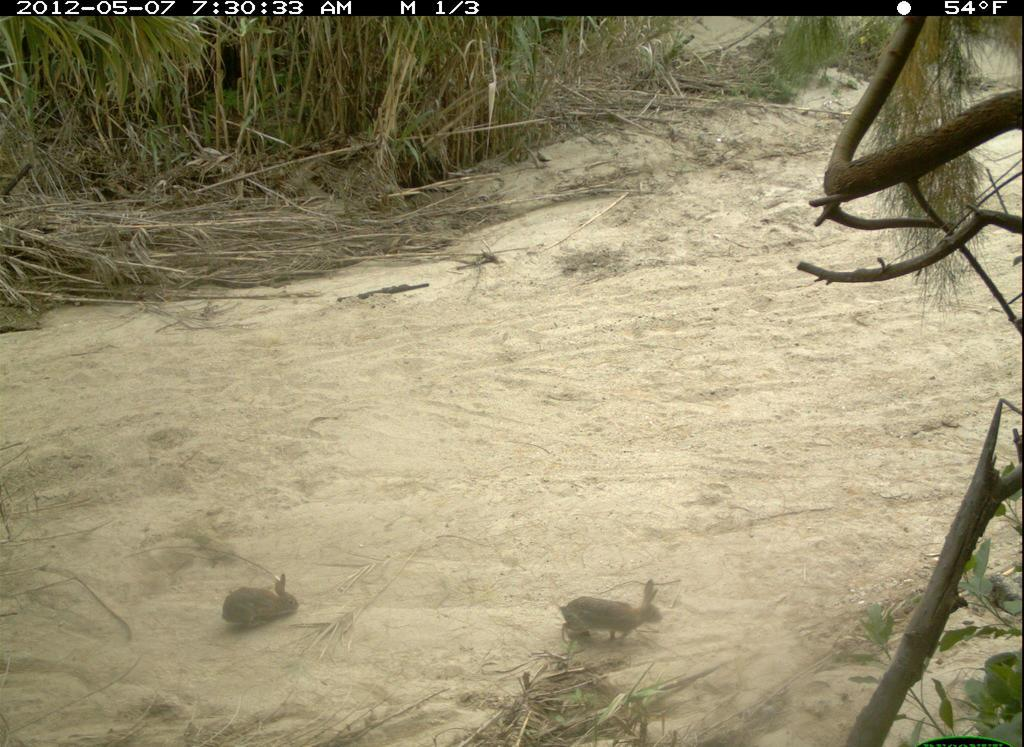rabbit: (552, 571, 675, 655), (213, 566, 313, 637)
